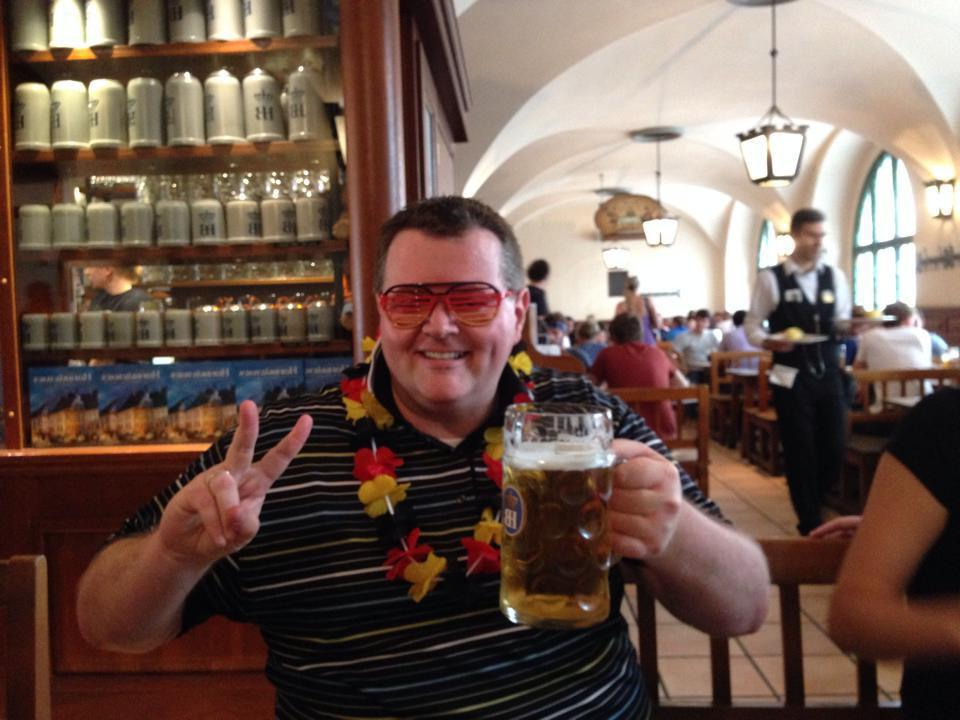Drunk: (387, 239, 506, 398)
